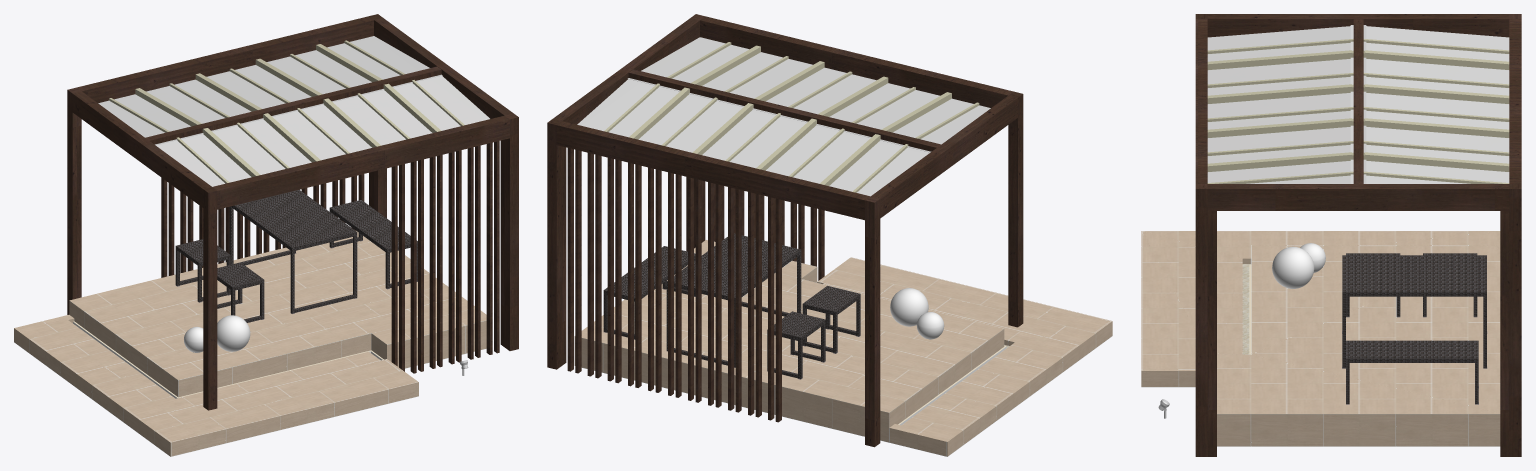
File: hyg26-g_darkpine.fbx
3 renders of one model, left to right at view 1: azimuth 30°, elevation 25°; view 2: azimuth 150°, elevation 25°; view 3: azimuth 270°, elevation 25°, orthographic. The views are drawn at different scales.
Parts seen in each view (by area): view 1: hyg26-g_darkpine; view 2: hyg26-g_darkpine; view 3: hyg26-g_darkpine.
Boxes of the visible parts, bbox=[...] form: hyg26-g_darkpine: bbox=[14, 14, 518, 456]; hyg26-g_darkpine: bbox=[547, 14, 1112, 456]; hyg26-g_darkpine: bbox=[1141, 14, 1521, 456].
Size of the model in its own units: 411 by 245 by 315.
17 materials, 9 textured.
